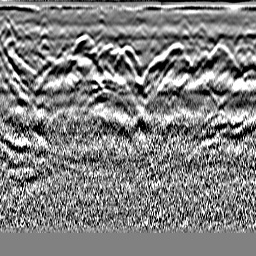cavity: (113, 41, 139, 68)
